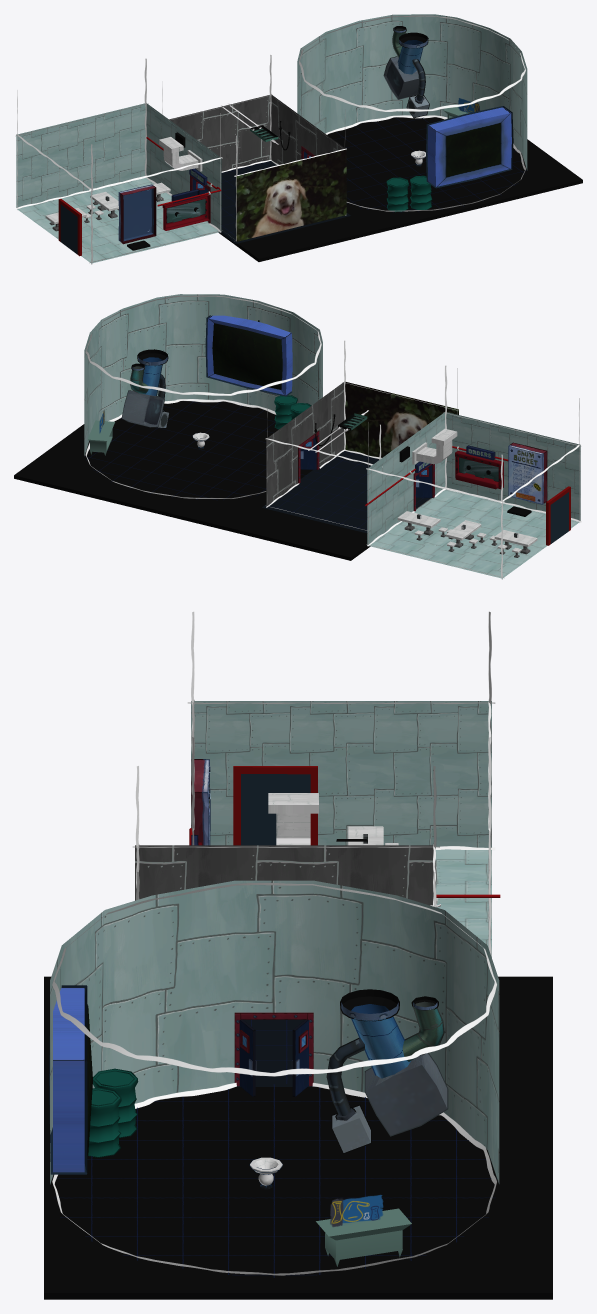
The model's file is Balde-de-carnada.glb.
3 renders of one model, top to bottom at view 1: azimuth 30°, elevation 25°; view 2: azimuth 150°, elevation 25°; view 3: azimuth 270°, elevation 25°, orthographic. The views are drawn at different scales.
Visible parts, largest first — view 1: Object_14, Object_10, Object_5, Object_34, Object_12, Object_19, Object_23, Object_18, Object_17, Object_22, Object_11, Object_21 (+7 smaller); view 2: Object_14, Object_10, Object_12, Object_5, Object_34, Object_19, Object_23, Object_11, Object_18, Object_17, Object_32, Object_33 (+10 smaller); view 3: Object_14, Object_10, Object_34, Object_19, Object_12, Object_18, Object_11, Object_22, Object_8, Object_40, Object_17, Object_21 (+6 smaller).
Boxes of the visible parts, left/top/right/bottom form: Object_14: left=16, top=14, right=527, bottom=263; Object_10: left=127, top=117, right=582, bottom=261; Object_5: left=236, top=149, right=346, bottom=241; Object_34: left=169, top=94, right=346, bottom=221; Object_12: left=426, top=106, right=513, bottom=188; Object_19: left=383, top=26, right=429, bottom=118; Object_23: left=118, top=168, right=207, bottom=244; Object_18: left=298, top=15, right=525, bottom=211; Object_17: left=15, top=58, right=222, bottom=264; Object_22: left=386, top=175, right=432, bottom=212; Object_11: left=222, top=117, right=526, bottom=235; Object_21: left=159, top=137, right=202, bottom=171; Object_14: left=84, top=294, right=580, bottom=578; Object_10: left=14, top=401, right=531, bottom=560; Object_12: left=205, top=315, right=292, bottom=396; Object_5: left=345, top=382, right=458, bottom=457; Object_34: left=266, top=382, right=431, bottom=509; Object_19: left=121, top=349, right=169, bottom=428; Object_23: left=415, top=442, right=547, bottom=504; Object_11: left=85, top=401, right=426, bottom=529; Object_18: left=85, top=295, right=321, bottom=498; Object_17: left=366, top=365, right=581, bottom=579; Object_32: left=397, top=511, right=537, bottom=546; Object_33: left=265, top=340, right=458, bottom=530; Object_14: left=50, top=701, right=499, bottom=1184; Object_10: left=44, top=839, right=552, bottom=1299; Object_34: left=135, top=845, right=435, bottom=905; Object_19: left=326, top=989, right=448, bottom=1154; Object_12: left=49, top=985, right=92, bottom=1174; Object_18: left=52, top=883, right=496, bottom=1275; Object_11: left=52, top=1019, right=496, bottom=1277; Object_22: left=88, top=1068, right=138, bottom=1157; Object_8: left=316, top=1208, right=411, bottom=1266; Object_40: left=241, top=774, right=310, bottom=845; Object_17: left=188, top=611, right=495, bottom=956; Object_21: left=268, top=793, right=318, bottom=845.
Size of the model in its own units: 173 by 44.35 by 83.6.
39 materials, 31 textured.
